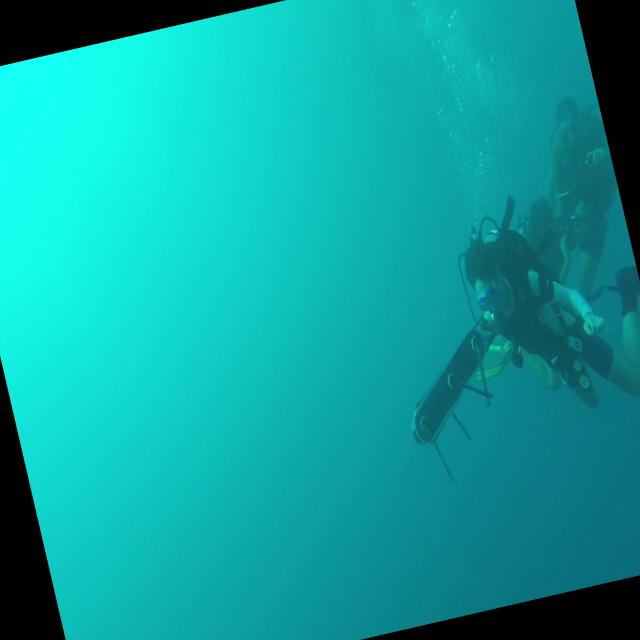human: (447, 184, 640, 431), (493, 87, 640, 315)
